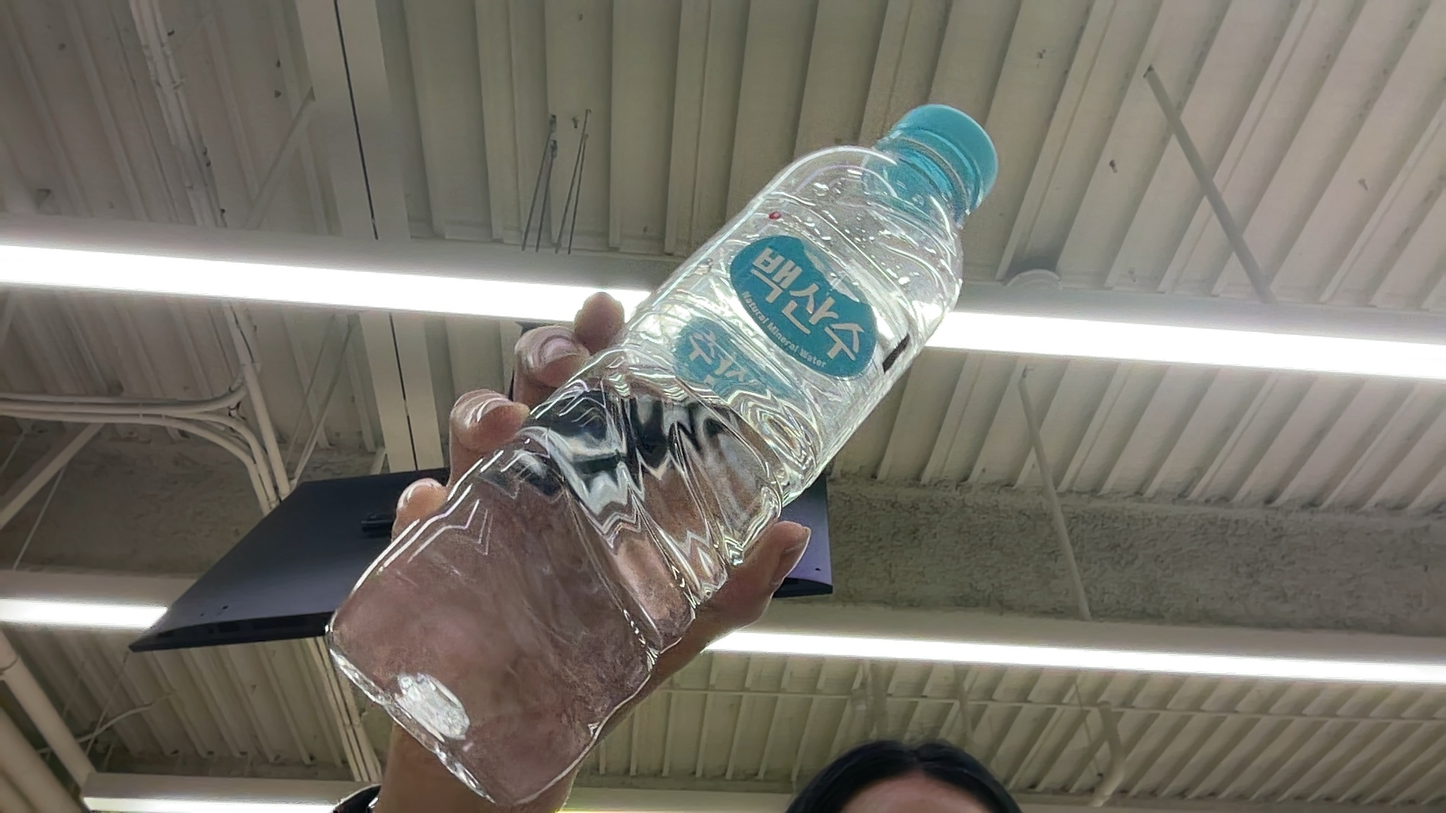Plastic: (277, 79, 1230, 741)
